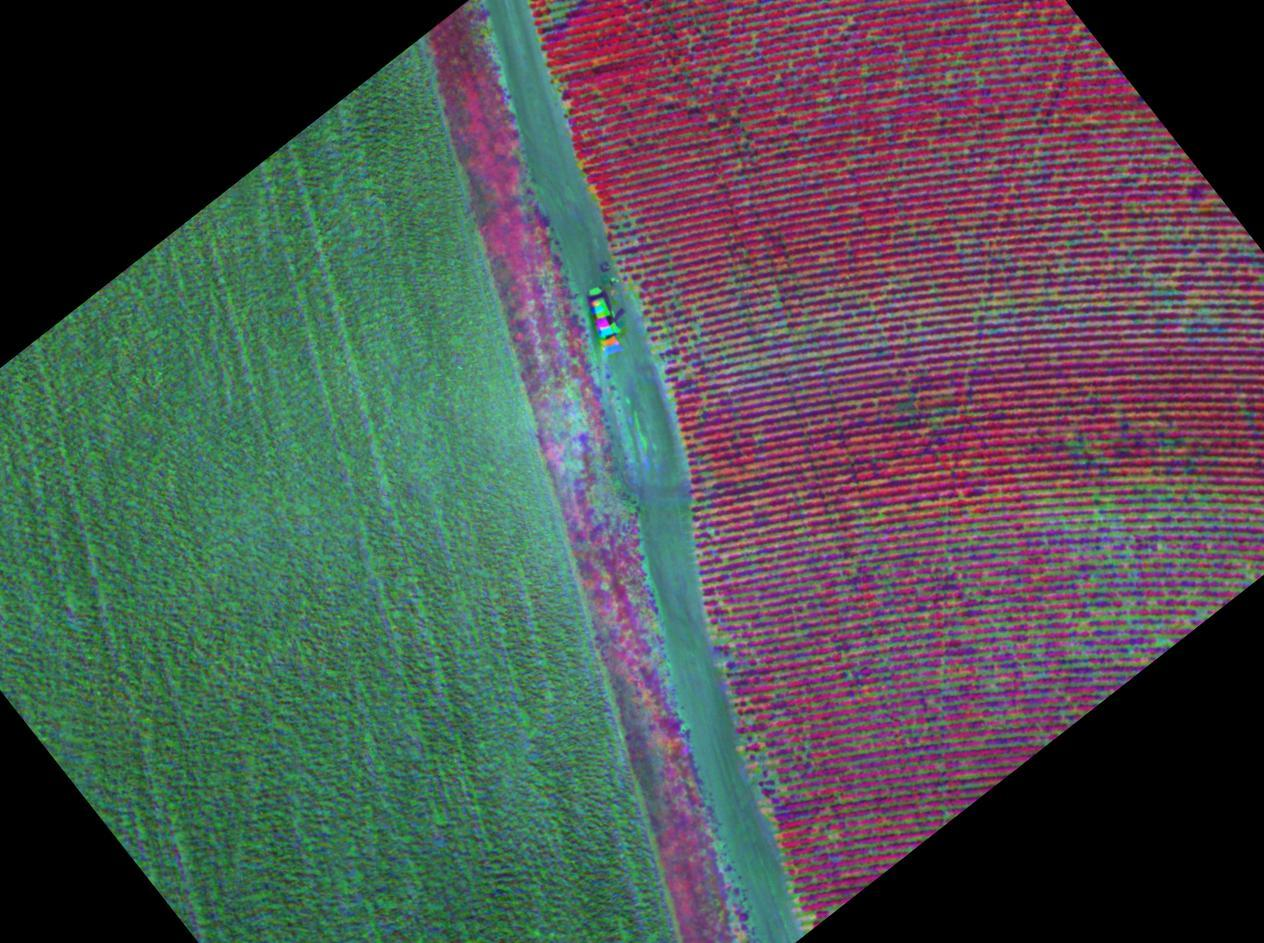dc: (694, 329, 699, 333), (1091, 578, 1095, 583), (696, 311, 700, 315), (702, 394, 705, 398), (800, 528, 804, 531), (833, 550, 837, 553), (665, 343, 668, 346), (917, 585, 920, 588), (1094, 507, 1098, 509)
